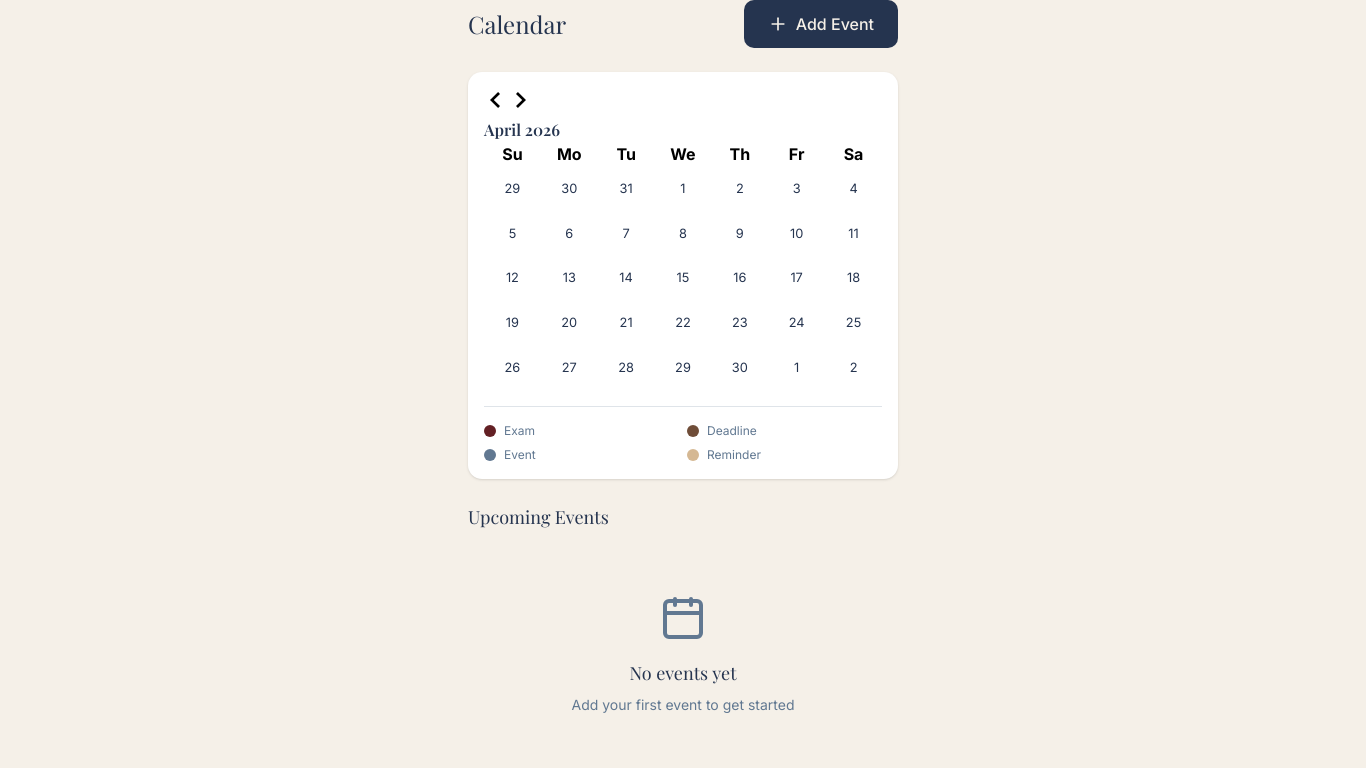
25. Test calendar module › 25.1 Test event creation › should open create modal when Add Event button is clicked
What coordinates should you click on to do the following:
click the button "Add Event"
I would click on:
 (821, 24)
Its box is top-left (744, 0), bottom-right (898, 48).
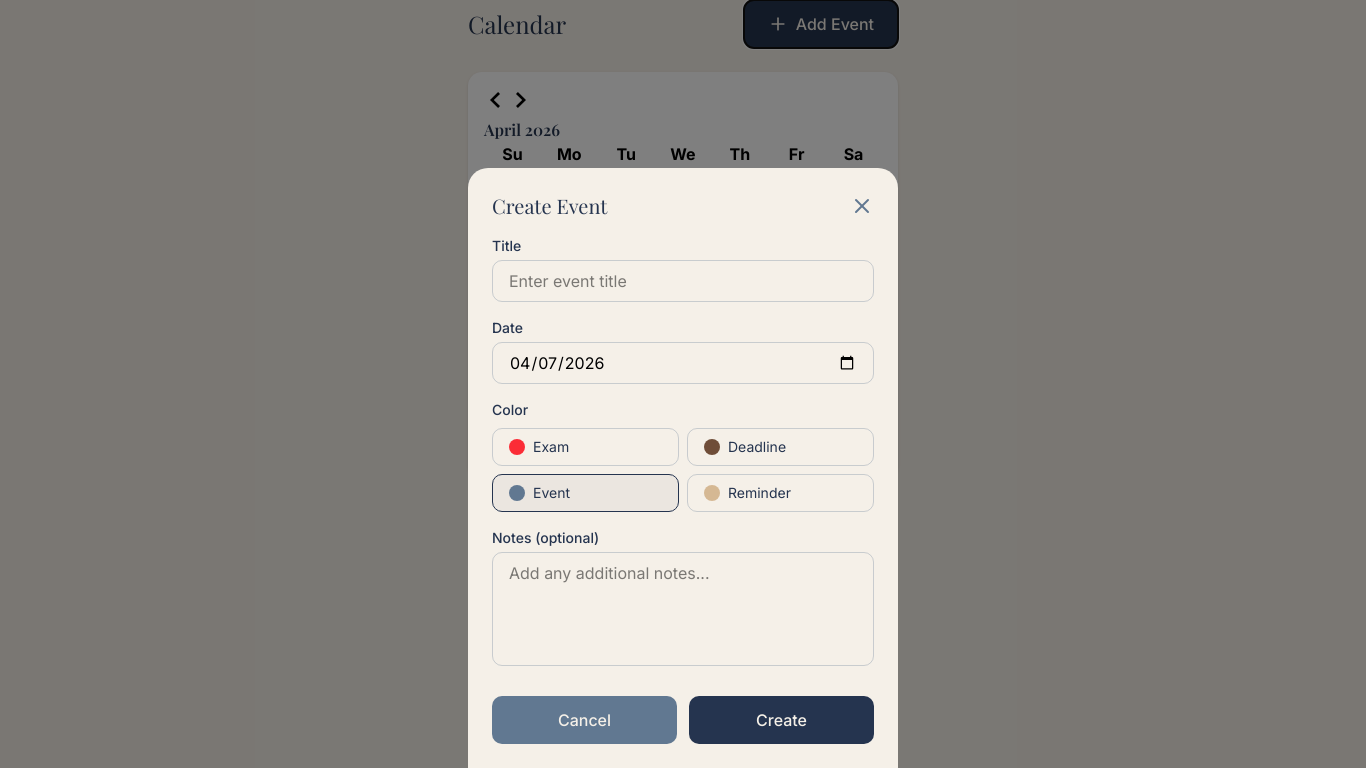
Now the heading "Create Event" is shown, box top-left (492, 192), bottom-right (608, 220)
